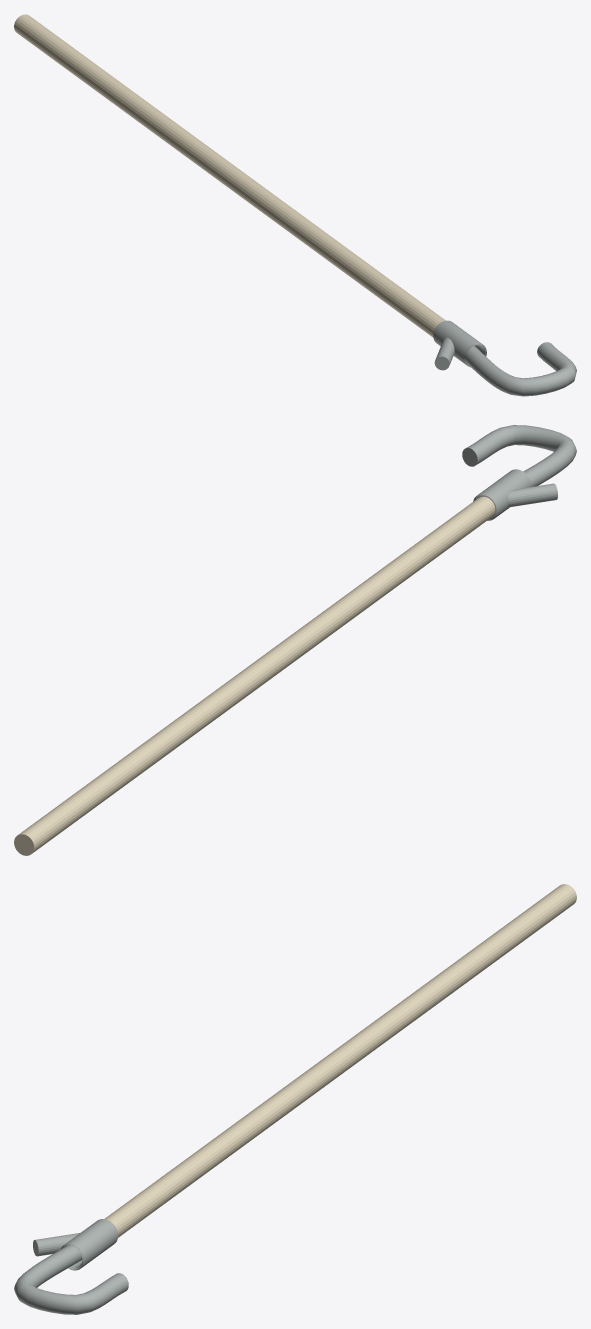
The model's file is canal-boats-and-lock-operations-canal-boats-and-lock-o-39dec753__31650.glb.
3 views of the same model, one above another, from view 1: azimuth 30°, elevation 25°; view 2: azimuth 150°, elevation 25°; view 3: azimuth 330°, elevation 25° (orthographic). The views are drawn at different scales.
Visible parts, largest first — view 1: canal-boats-and-lock-operations-boat-hook; view 2: canal-boats-and-lock-operations-boat-hook; view 3: canal-boats-and-lock-operations-boat-hook.
Boxes of the visible parts, x1,y1,x2,y2 form: canal-boats-and-lock-operations-boat-hook: (14, 14, 576, 396); canal-boats-and-lock-operations-boat-hook: (14, 425, 576, 855); canal-boats-and-lock-operations-boat-hook: (14, 884, 576, 1314).
Bounding box in the file's own units: 0.2343 × 0.052 × 1.97.
